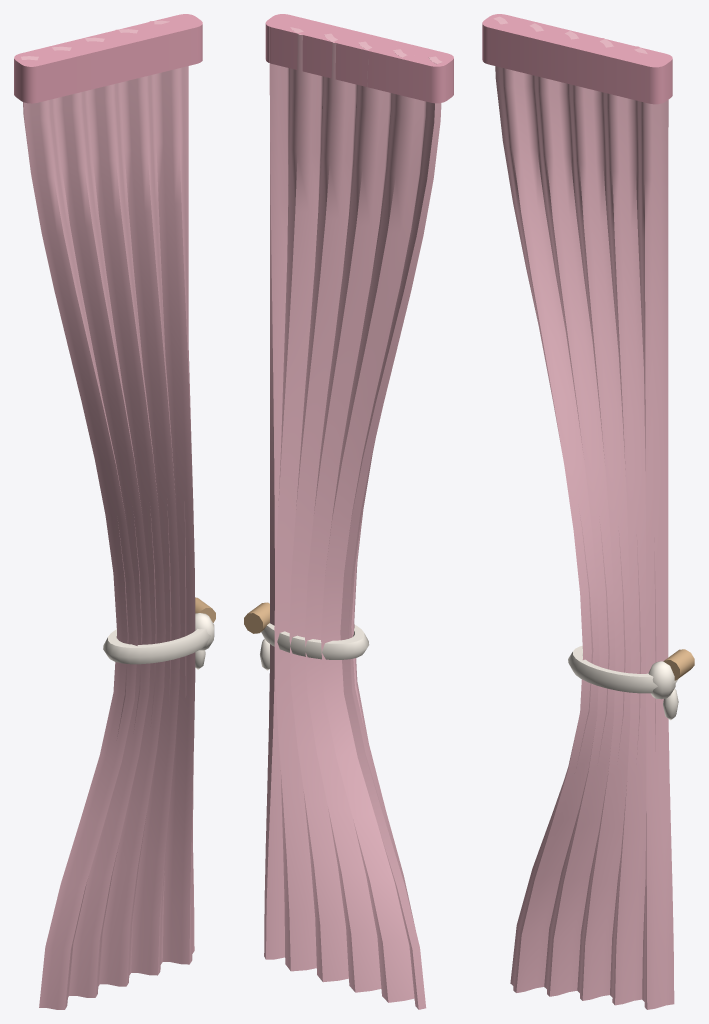
File: curtain.glb
3 renders of one model, left to right at view 1: azimuth 30°, elevation 25°; view 2: azimuth 150°, elevation 25°; view 3: azimuth 330°, elevation 25°, orthographic.
Parts seen in each view (by area): view 1: curtain; view 2: curtain; view 3: curtain.
Part boxes in pixels (<box>): curtain: <box>14,14,215,1009</box>; curtain: <box>244,14,453,1009</box>; curtain: <box>482,14,694,1009</box>.
Bounding box in the file's own units: 0.389 × 1.82 × 0.1209.
